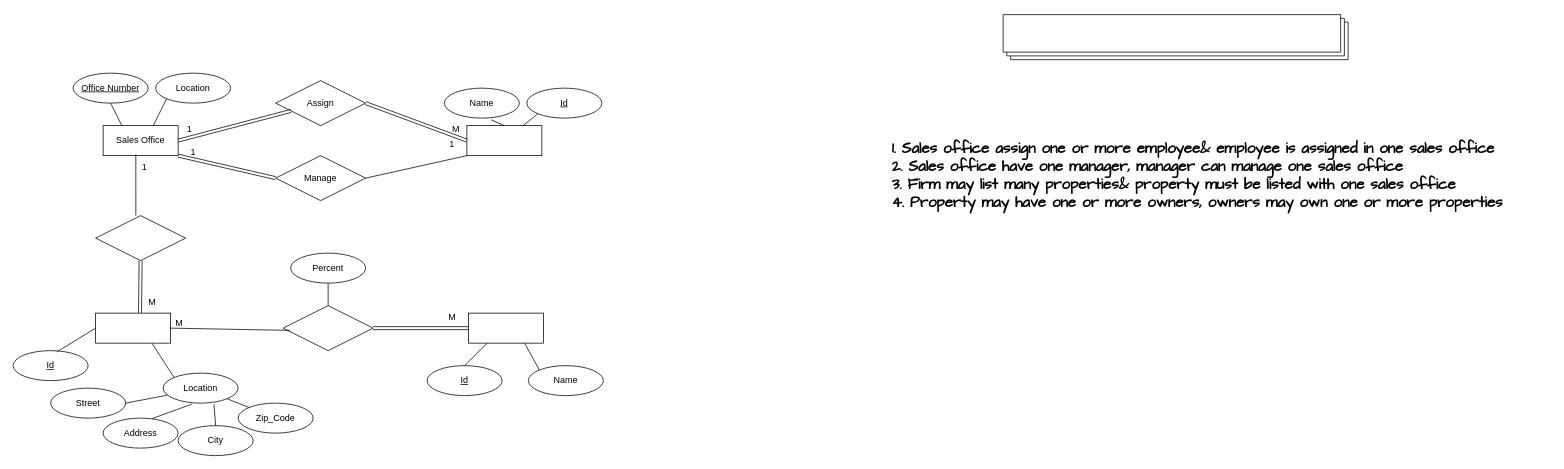
The diagram is 1564 pixels wide and 469 high, and some of its shapes have lost their labels. Each missing label, with the box of its shape:
Employee: (466, 125, 542, 156)
List: (95, 215, 186, 261)
Owner: (468, 312, 543, 343)
Owns: (282, 305, 373, 351)
Property: (95, 312, 171, 343)
Relationships: (1002, 14, 1348, 60)
